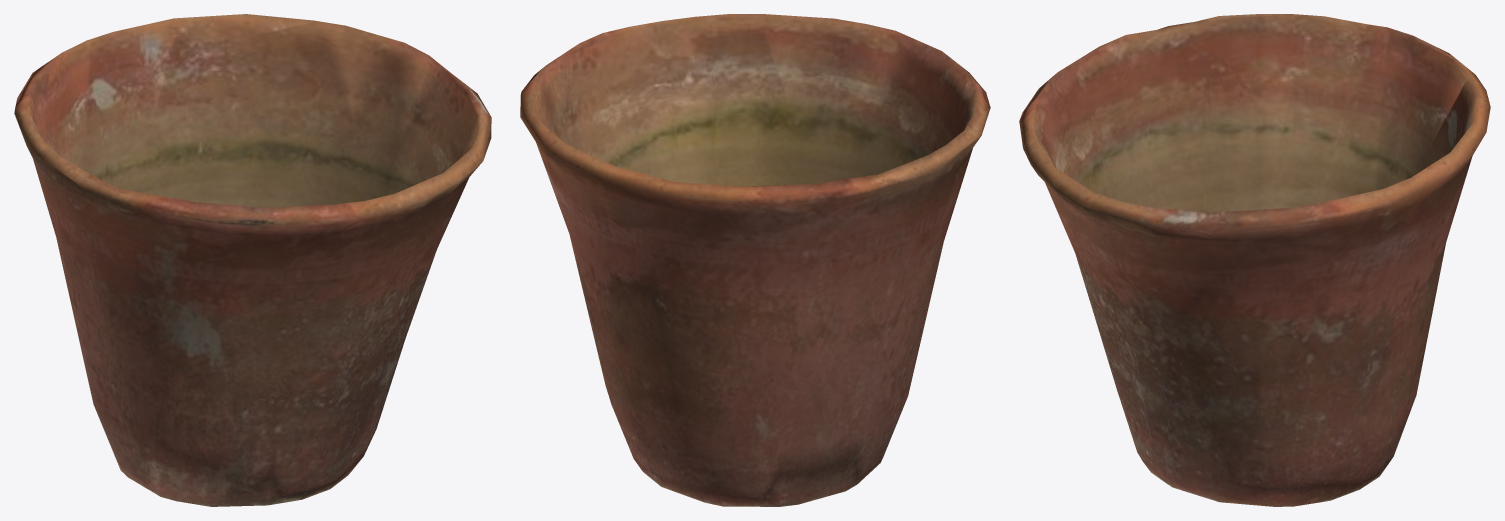
Rendered from clay_pot.glb.
3 views of the same model, side by side, from view 1: azimuth 30°, elevation 25°; view 2: azimuth 150°, elevation 25°; view 3: azimuth 270°, elevation 25° (orthographic).
Visible parts, largest first — view 1: planter_pot_clay; view 2: planter_pot_clay; view 3: planter_pot_clay.
Part boxes in pixels (bbox=[...]): planter_pot_clay: bbox=[14, 14, 491, 506]; planter_pot_clay: bbox=[520, 14, 990, 506]; planter_pot_clay: bbox=[1019, 14, 1490, 506].
Size of the model in its own units: 0.2637 by 0.2218 by 0.2635.
Materials: 1 (1 with a texture image).
